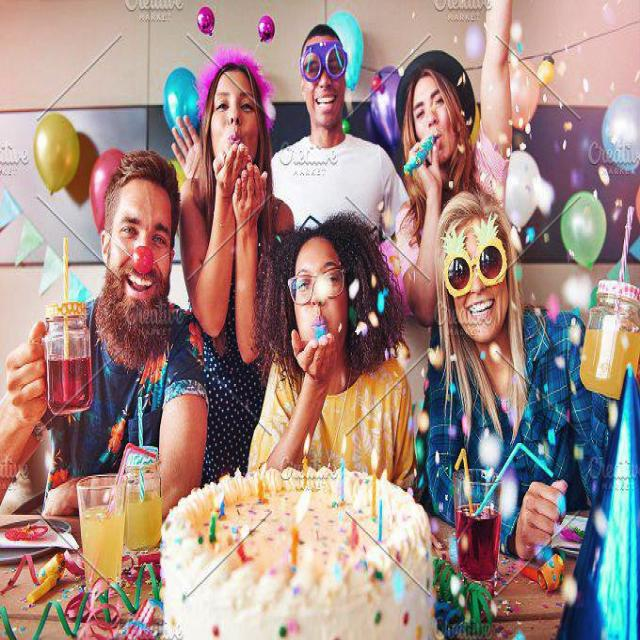gun: (30, 152, 209, 512), (414, 226, 613, 545), (391, 1, 532, 252), (185, 59, 276, 380), (270, 32, 404, 243), (282, 238, 387, 487)
